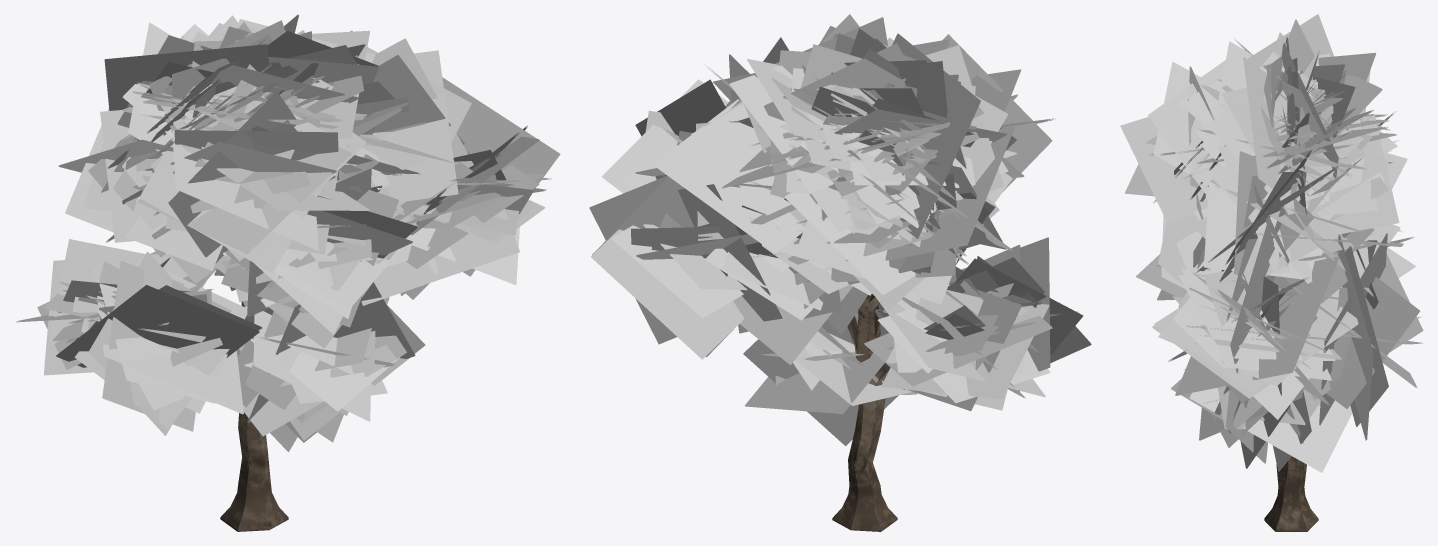
Rendered from Tree.fbx.
3 views of the same model, side by side, from view 1: azimuth 30°, elevation 25°; view 2: azimuth 150°, elevation 25°; view 3: azimuth 270°, elevation 25° (orthographic). The views are drawn at different scales.
Visible parts, largest first — view 1: Arvore.001; view 2: Arvore.001; view 3: Arvore.001.
Boxes of the visible parts, <box> form: Arvore.001: <box>16,14,560,531</box>; Arvore.001: <box>589,14,1091,531</box>; Arvore.001: <box>1120,14,1423,531</box>.
Size of the model in its own units: 793 by 804 by 474.
